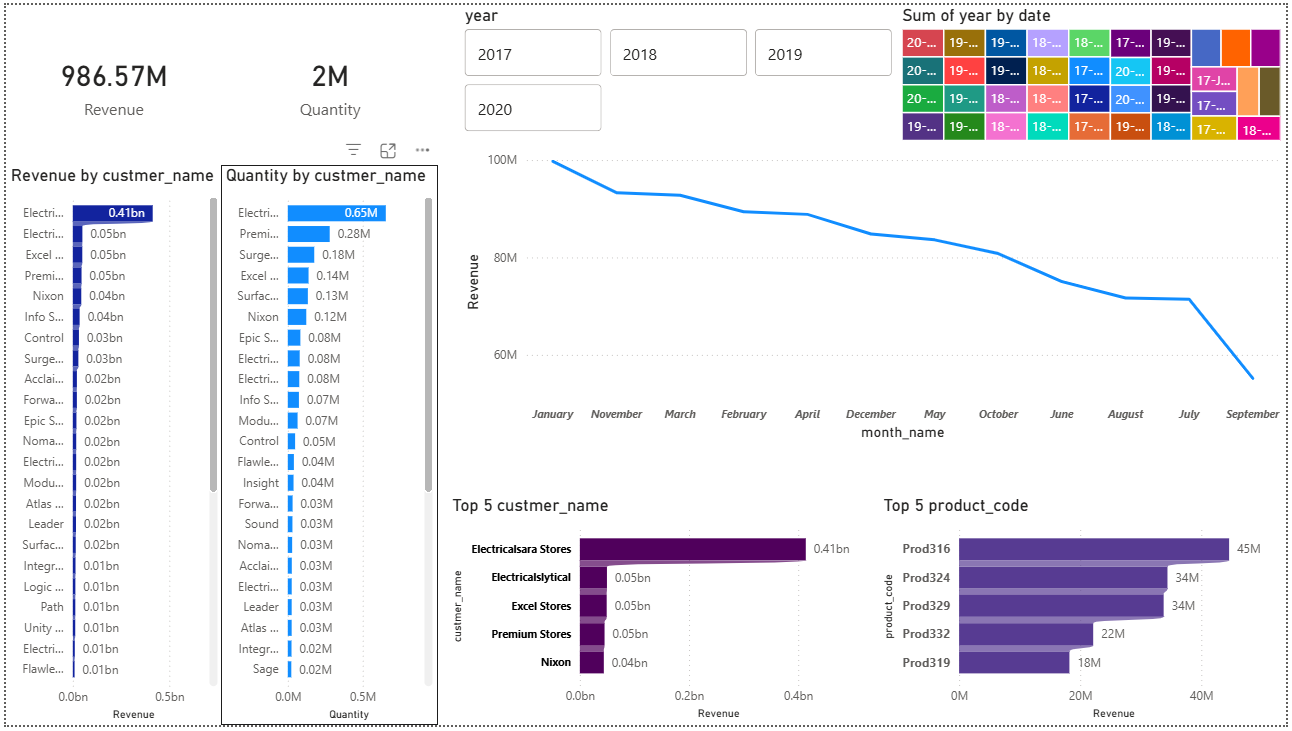

This screenshot's page, from the dashboard's own definition file:
{"tool":"powerbi","page":{"name":"Page 1","canvas":[1280,720],"ordinal":0},"visuals":[{"type":"card","fields":{"Values":["Revenue.Revenue"]},"box":[0,0,216.1,159.7],"z":0},{"type":"card","fields":{"Values":["Revenue.Quantity"]},"box":[216.1,0,216.1,159.7],"z":1000},{"type":"barChart","fields":{"Y":["Revenue.Revenue"],"Category":["sales customers.custmer_name"]},"box":[0,159.6,216.7,560.2],"z":2000},{"type":"barChart","fields":{"Y":["Revenue.Quantity"],"Category":["sales customers.custmer_name"]},"box":[215.2,159.6,216.7,560.2],"z":3000},{"type":"treemap","title":"Sum of year by date","fields":{"Values":["Sum(sales date.year)"],"Group":["sales date.date_yy_mmm"]},"box":[891.9,0,388.4,140.7],"z":4000},{"type":"advancedSlicerVisual","fields":{"Values":["sales date.year"]},"box":[453.5,0,438.4,132.6],"z":5000},{"type":"barChart","title":"Top 5 custmer_name","fields":{"Y":["Revenue.Revenue"],"Category":["sales customers.custmer_name"]},"box":[441.9,490.3,430.5,229.5],"z":6000},{"type":"barChart","title":"Top 5 product_code","fields":{"Y":["Revenue.Revenue"],"Category":["sales transactions.product_code","sales customers.custmer_name"]},"box":[872.3,490.3,407.7,229.5],"z":7000},{"type":"lineChart","fields":{"Y":["Revenue.Revenue"],"Category":["sales date.month_name"]},"box":[453.3,141.1,826.7,299.3],"z":8000}]}

Visuals, with their boxes in screenshot pixels (x1, y1, x2, y2), scaled from the page's 1280x720 canvas onto the 1292x731 screenshot:
card - Revenue.Revenue: box=[0, 0, 218, 162]
card - Revenue.Quantity: box=[218, 0, 436, 162]
barChart - Revenue.Revenue x sales customers.custmer_name: box=[0, 162, 219, 730]
barChart - Revenue.Quantity x sales customers.custmer_name: box=[217, 162, 436, 730]
"Sum of year by date" treemap: box=[900, 0, 1291, 143]
advancedSlicerVisual - sales date.year: box=[458, 0, 900, 135]
"Top 5 custmer_name" barChart: box=[446, 498, 881, 730]
"Top 5 product_code" barChart: box=[880, 498, 1291, 730]
lineChart - Revenue.Revenue x sales date.month_name: box=[458, 143, 1291, 447]
